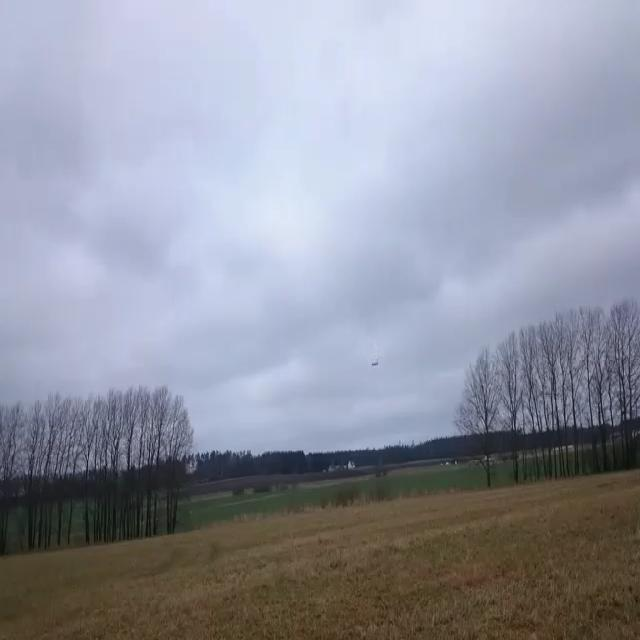Drone: (359, 345, 390, 378)
